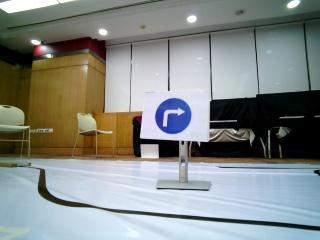right: (142, 92, 207, 138)
